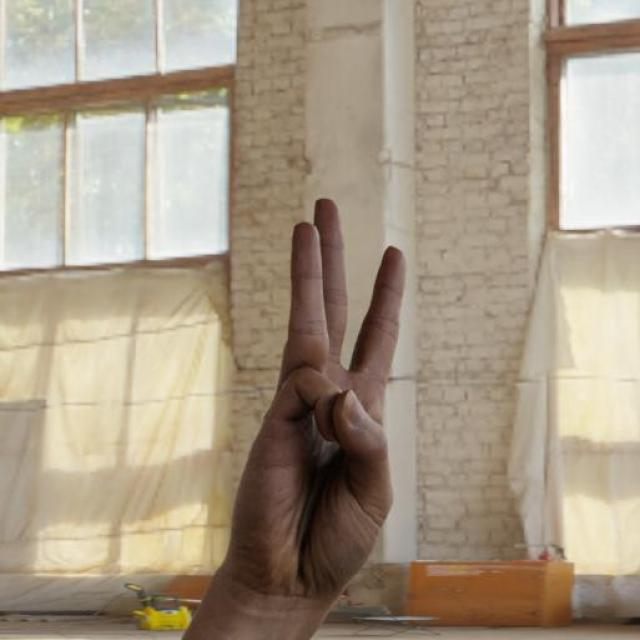W: (208, 191, 410, 599)
